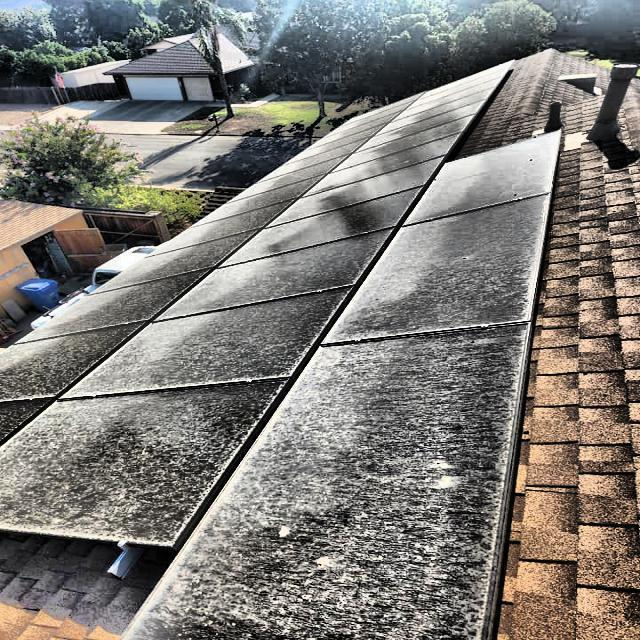Anomaly Solar Panel: (1, 62, 514, 542), (120, 128, 560, 639), (0, 94, 422, 400)
Surface Contaminant: (0, 88, 492, 545), (123, 127, 560, 639), (0, 92, 421, 443)
